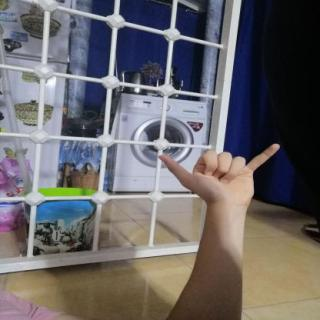YA: (152, 136, 288, 212)
